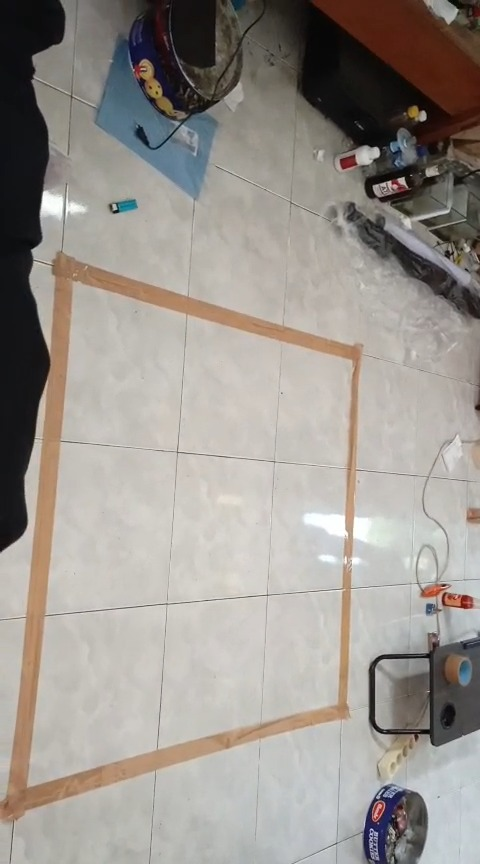floor marking: (0, 252, 361, 820)
